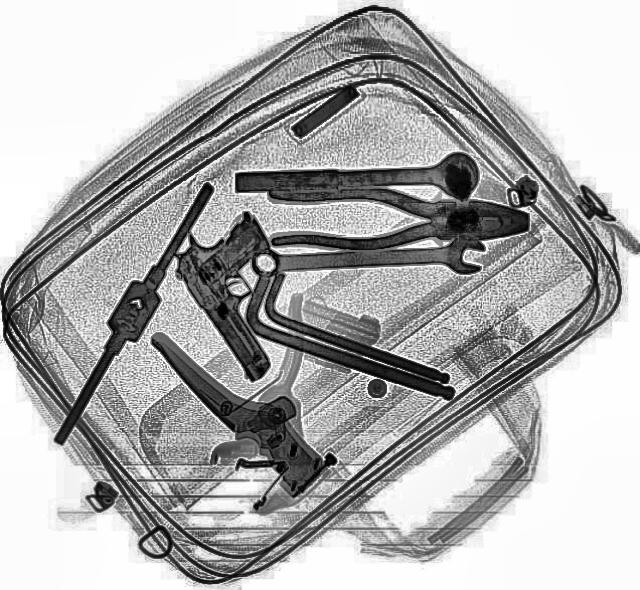Gun: (152, 201, 342, 382)
Pliers: (264, 180, 528, 252)
Wrench: (248, 232, 488, 282)
